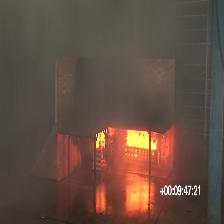fire: (101, 129, 156, 156)
